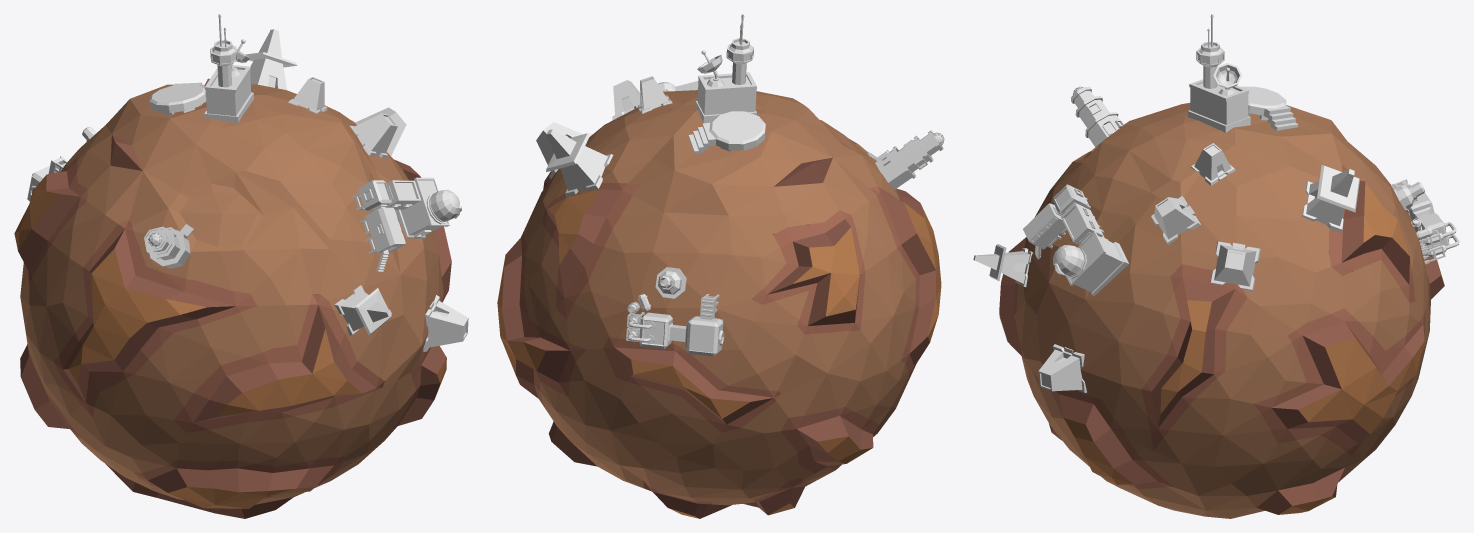
The model's file is 磐岩星.fbx.
3 renders of one model, left to right at view 1: azimuth 30°, elevation 25°; view 2: azimuth 150°, elevation 25°; view 3: azimuth 270°, elevation 25°, orthographic.
Parts seen in each view (by area): view 1: 磐岩星, 攀岩星建筑群, 磐岩星科研站, 磐岩星发射站, 磐岩星恒星研究站, 磐岩星开采站; view 2: 磐岩星, 磐岩星发射站, 攀岩星建筑群, 磐岩星开采站, 磐岩星恒星研究站; view 3: 磐岩星, 攀岩星建筑群, 磐岩星科研站, 磐岩星发射站, 磐岩星开采站, 磐岩星恒星研究站.
Boxes of the visible parts, bbox=[...] form: 磐岩星: bbox=[14, 78, 451, 518]; 攀岩星建筑群: bbox=[245, 29, 468, 351]; 磐岩星科研站: bbox=[352, 177, 461, 272]; 磐岩星发射站: bbox=[149, 14, 253, 122]; 磐岩星恒星研究站: bbox=[144, 224, 193, 268]; 磐岩星开采站: bbox=[27, 127, 97, 201]; 磐岩星: bbox=[497, 90, 941, 518]; 磐岩星发射站: bbox=[688, 14, 765, 153]; 攀岩星建筑群: bbox=[536, 76, 672, 197]; 磐岩星开采站: bbox=[626, 267, 724, 356]; 磐岩星恒星研究站: bbox=[867, 130, 944, 189]; 磐岩星: bbox=[999, 103, 1444, 518]; 攀岩星建筑群: bbox=[973, 143, 1359, 392]; 磐岩星科研站: bbox=[1023, 184, 1128, 296]; 磐岩星发射站: bbox=[1187, 14, 1298, 132]; 磐岩星开采站: bbox=[1391, 179, 1459, 264]; 磐岩星恒星研究站: bbox=[1071, 86, 1123, 146].
Bounding box in the file's own units: 6476 × 7235 × 8004.
